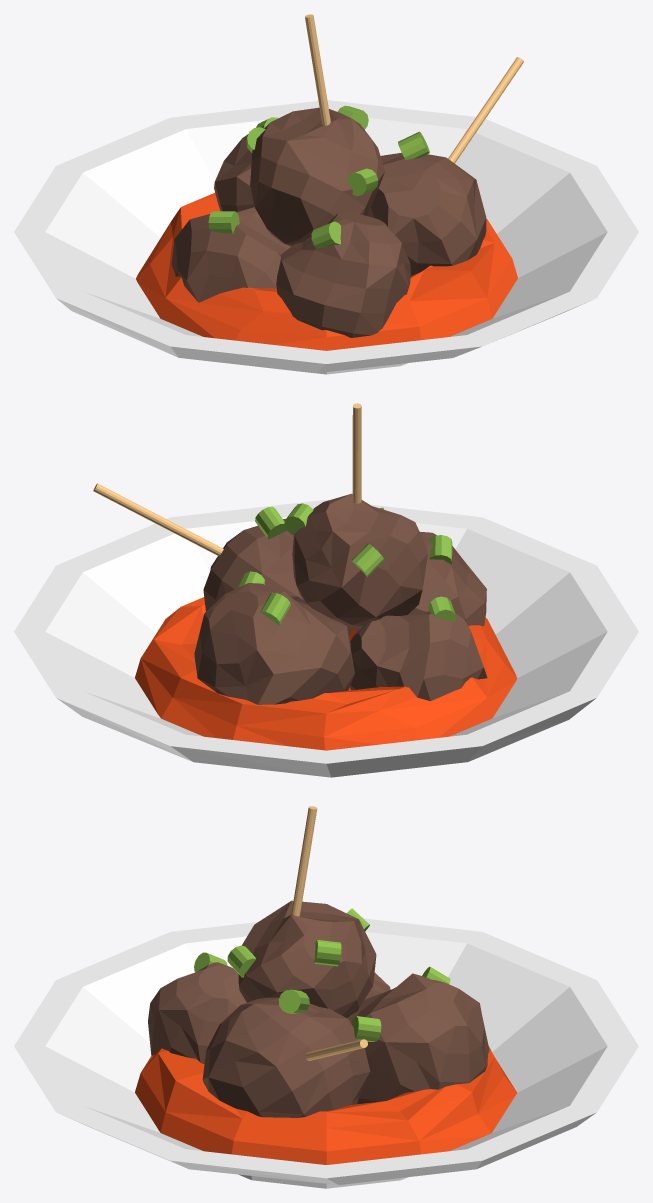
File: Meatballs.glb
3 renders of one model, top to bottom at view 1: azimuth 30°, elevation 25°; view 2: azimuth 150°, elevation 25°; view 3: azimuth 270°, elevation 25°, orthographic.
Parts seen in each view (by area): view 1: Node; view 2: Node; view 3: Node.
Boxes of the visible parts, x1,y1,x2,y2 form: Node: [14, 14, 638, 374]; Node: [14, 403, 638, 777]; Node: [14, 806, 638, 1188].
Bounding box in the file's own units: 0.26 × 0.1408 × 0.26.
